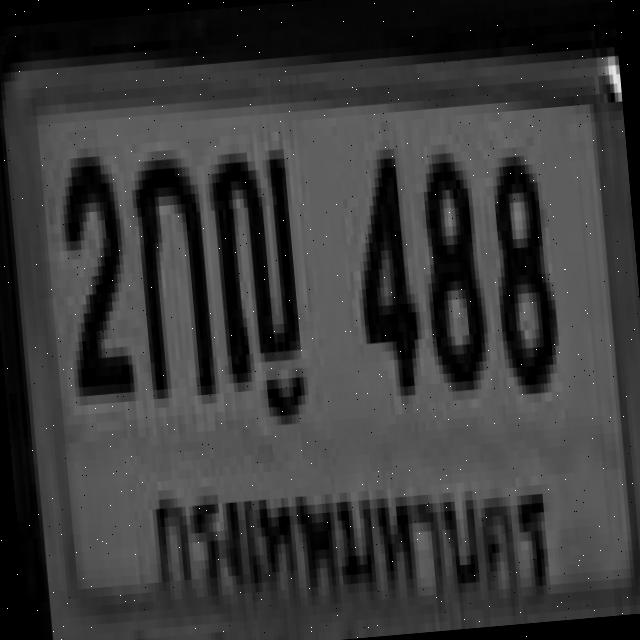10GorGai: (128, 148, 211, 390)
2: (54, 146, 130, 387)
22YorYing: (205, 140, 302, 383)
4: (345, 138, 418, 390)
8: (482, 146, 558, 387), (412, 142, 484, 384)
Bangkok: (139, 442, 569, 640)
